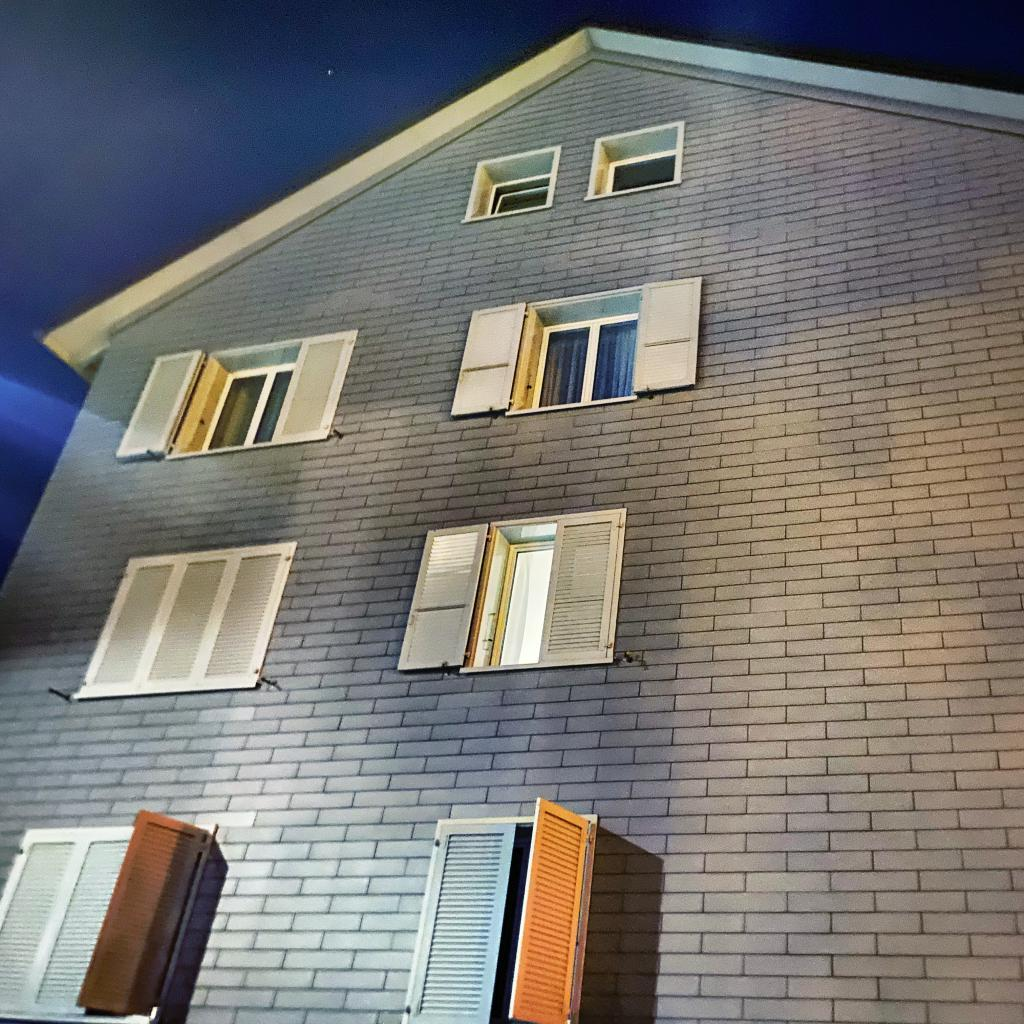facade: (0, 14, 1024, 1024)
window: (0, 807, 213, 1022), (409, 796, 591, 1024), (87, 550, 285, 689), (532, 311, 639, 409), (489, 539, 555, 667), (201, 362, 296, 450), (605, 149, 677, 193), (486, 172, 550, 216)
